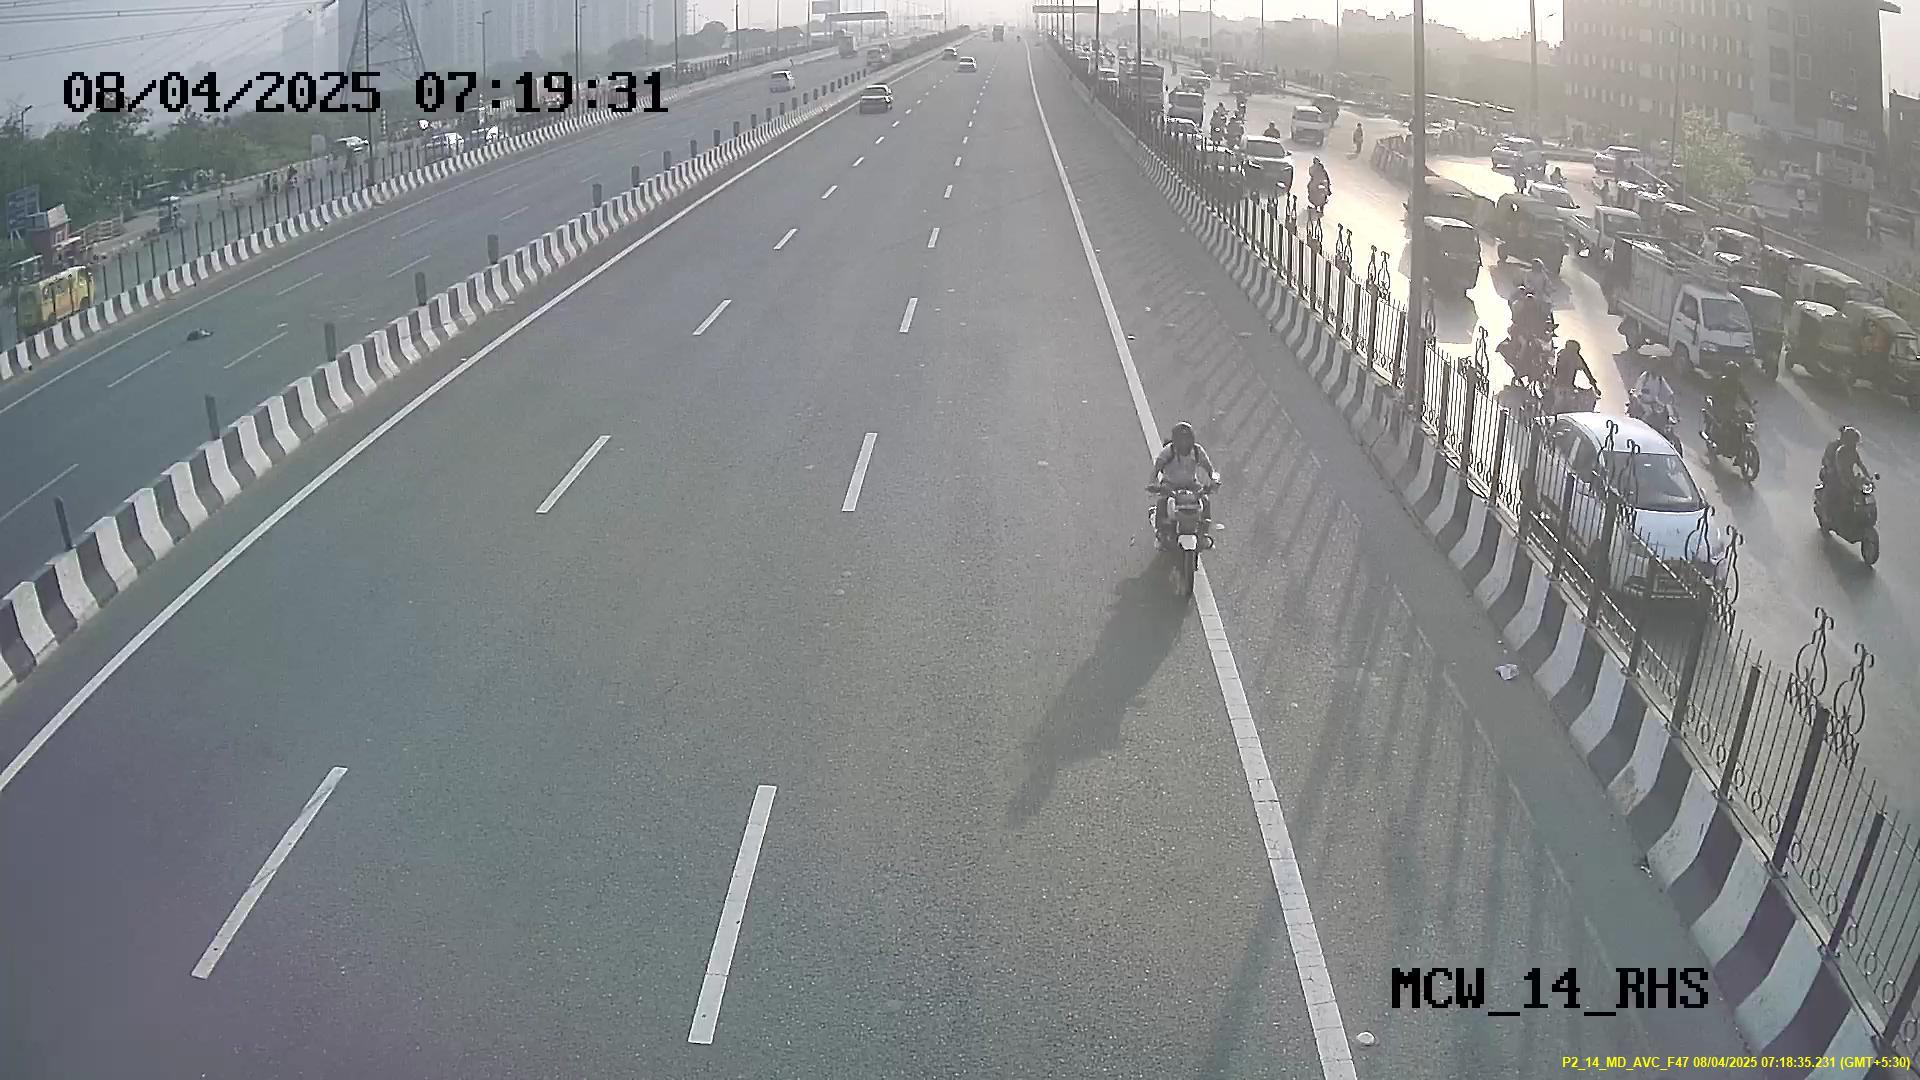bike: (1146, 418, 1220, 604)
